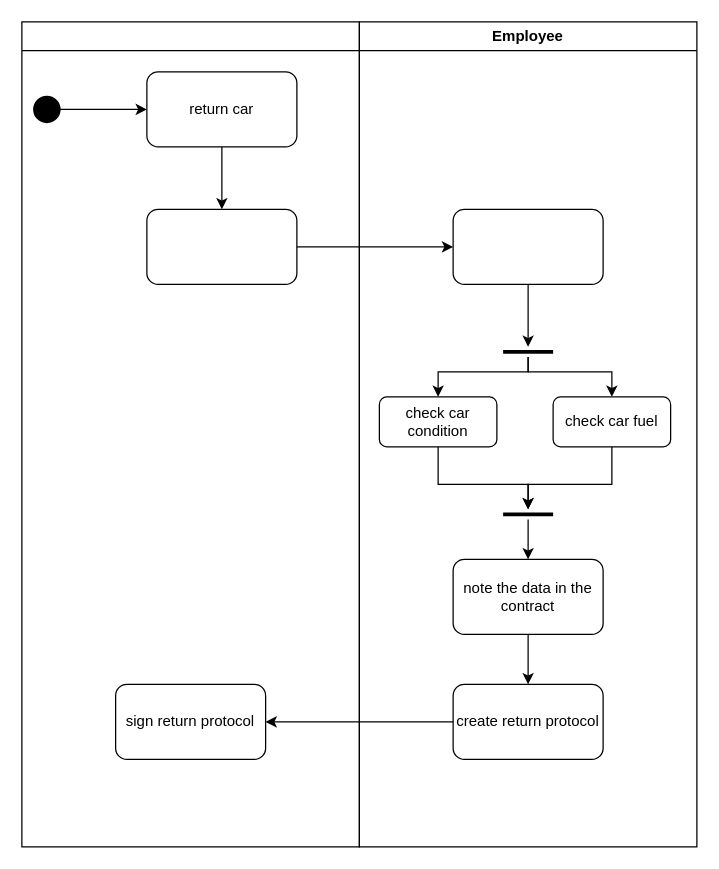
Some shapes in this 719 by 869 pixel diagram are drawn without their labels. The shapes that lost their labels are listed below. From the top down, each one's box as (x1, y1, x2, y2) in pixels, then its label:
(146, 208, 297, 284): show contract
(452, 208, 603, 284): identify contract
(21, 21, 359, 847): Customer
